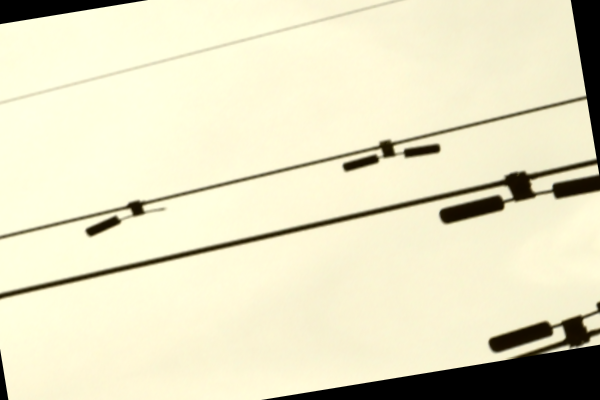damper: (341, 136, 442, 175)
damper_defect: (80, 198, 168, 238)
